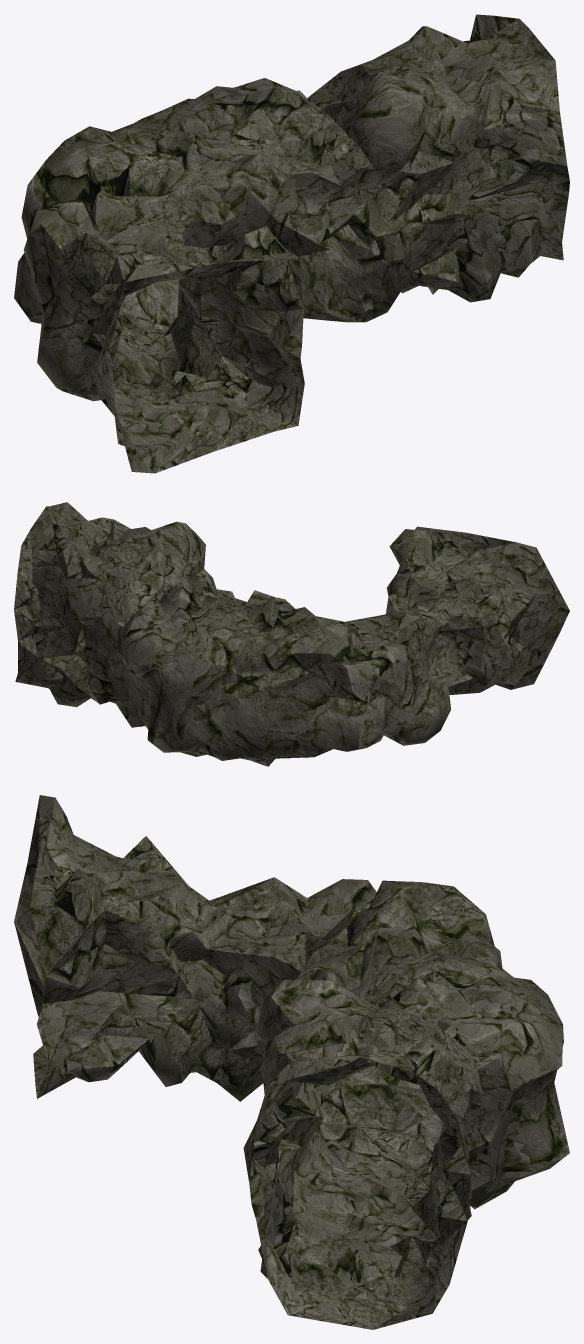
The model's file is TI_Cliff_03_i.fbx.
The picture shows the model from 3 angles, top to bottom: view 1: azimuth 30°, elevation 25°; view 2: azimuth 150°, elevation 25°; view 3: azimuth 270°, elevation 25°; orthographic projection. The views are drawn at different scales.
Visible parts, largest first — view 1: TI_Cliff_03_i; view 2: TI_Cliff_03_i; view 3: TI_Cliff_03_i.
Boxes of the visible parts, x1,y1,x2,y2 form: TI_Cliff_03_i: (14,14,569,473); TI_Cliff_03_i: (14,502,569,766); TI_Cliff_03_i: (14,795,569,1329).
Size of the model in its own units: 11.7 by 4.94 by 8.46.
